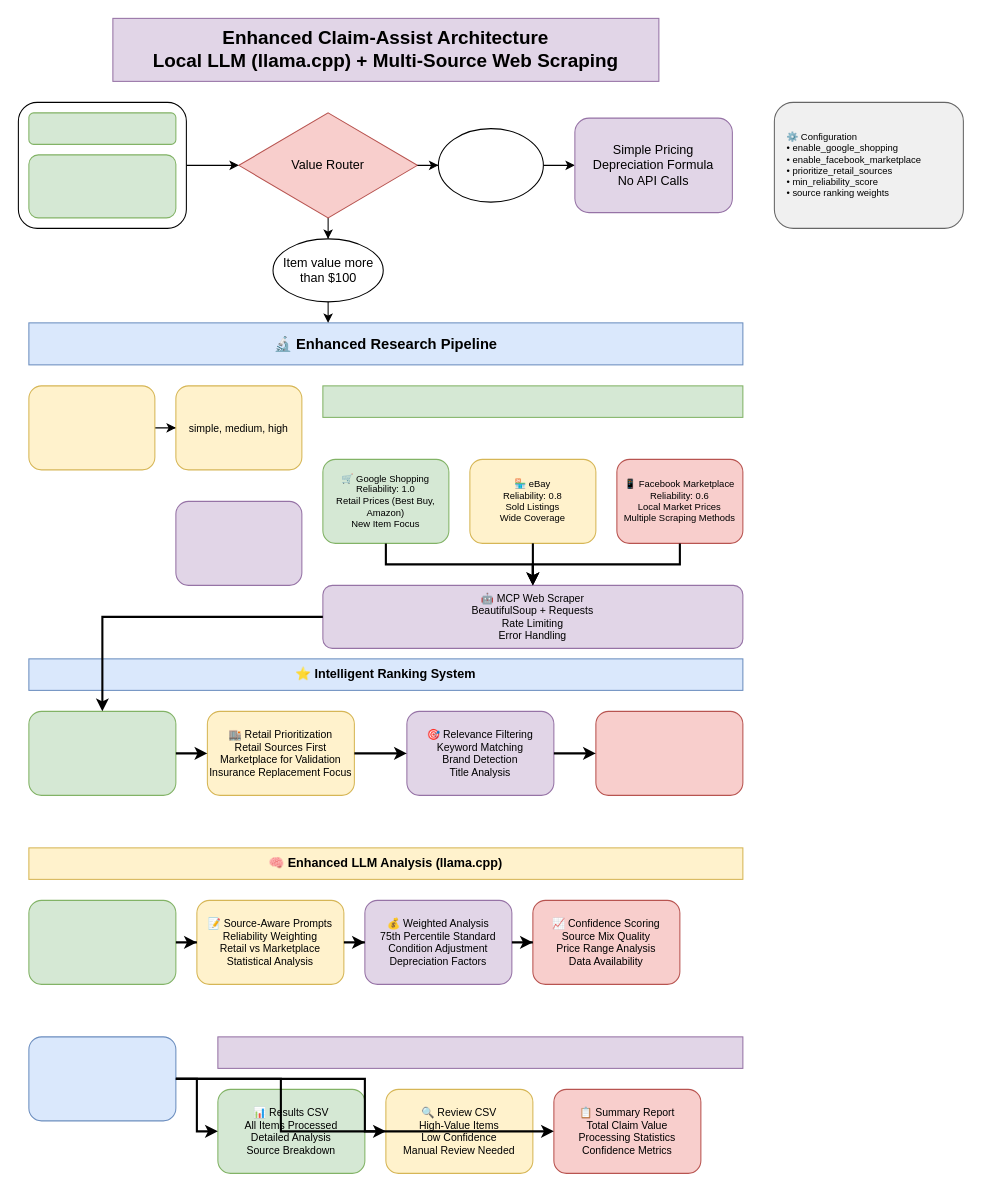
This 982x1192 diagram has some shape labels left out. The box of each missing label's shape, as (x1, y1, x2, y2) in pixels:
Description,B rand, Condition, A ge, F eatures, Estimated_value: (28, 154, 176, 218)
Insurance Claim Items: (28, 112, 176, 144)
Item Classifier (llama.cpp) Electronics/Furniture/etc.: (28, 385, 155, 470)
Item value less than $100: (437, 128, 543, 202)
✅ Price Validator (llama.cpp) Sanity Checks Outlier Detection: (28, 1036, 176, 1121)
🌐 Multi-Source Web Scraping with Reliability Ranking: (322, 385, 743, 417)
📊 Source Reliability Google Shopping: 1.0 eBay: 0.8 Facebook: 0.6: (28, 710, 176, 795)
📤 Structured Output: (217, 1036, 743, 1068)
🔄 Deduplication Title + Price Matching Source Grouping Quality Scoring: (595, 710, 743, 795)
🔍 Query Generator Smart Deduplication Brand Detection: (175, 500, 302, 585)
🖥️ Local llama.cpp No API Costs Privacy Protected Offline Capable: (28, 899, 176, 984)
